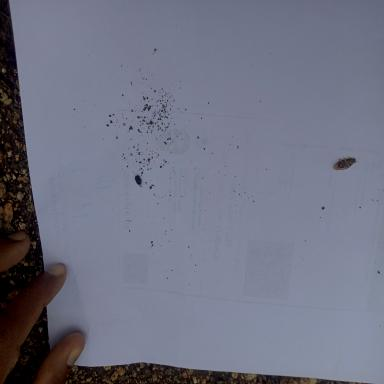pbw: (333, 157, 358, 171)
